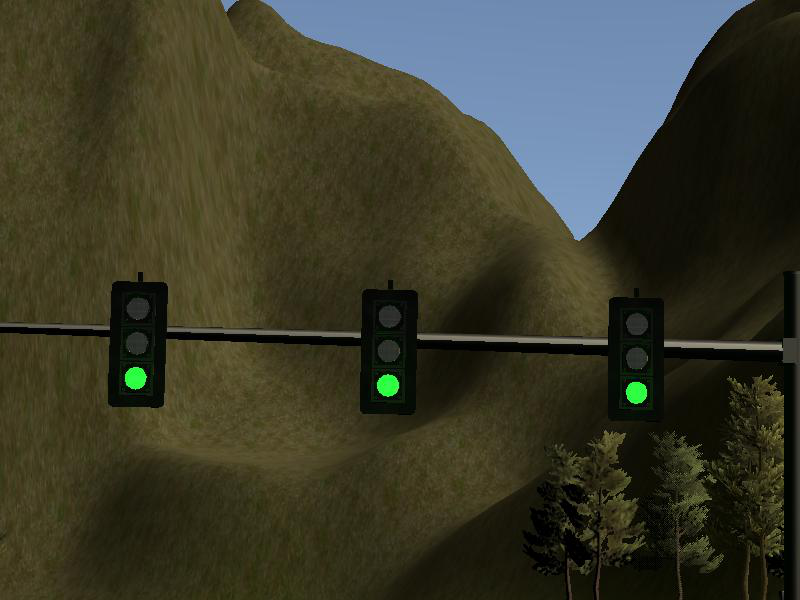green: (111, 280, 166, 409), (362, 288, 417, 415), (611, 298, 662, 422)
